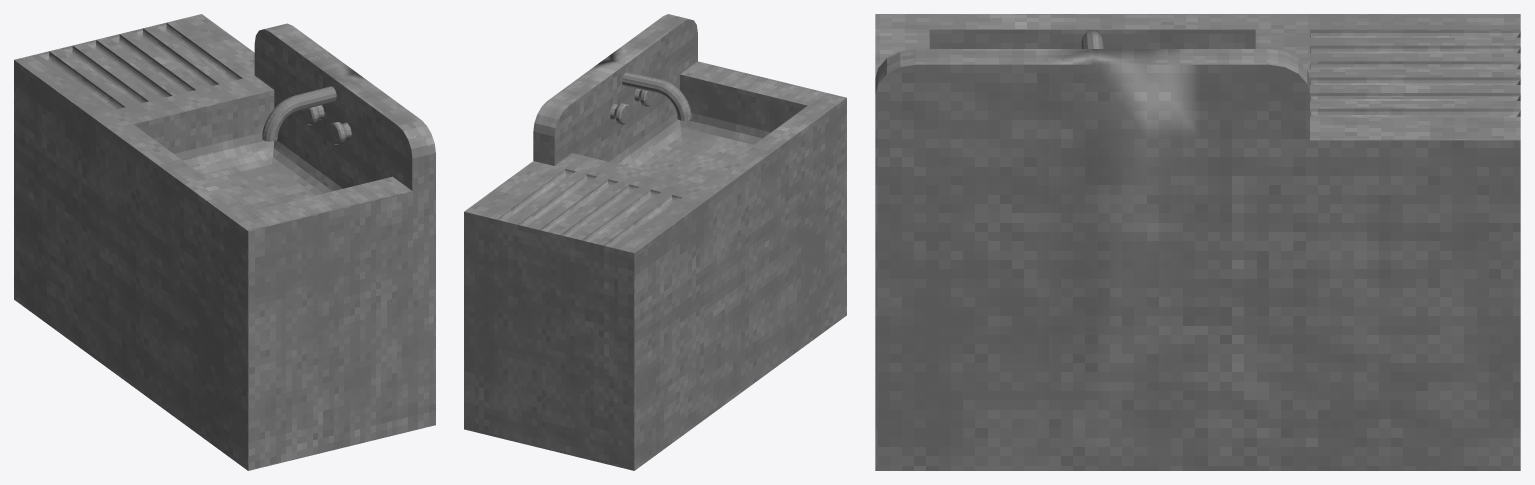
The model's file is zlew.fbx.
3 renders of one model, left to right at view 1: azimuth 30°, elevation 25°; view 2: azimuth 150°, elevation 25°; view 3: azimuth 270°, elevation 25°, orthographic. The views are drawn at different scales.
Parts seen in each view (by area): view 1: Cube.056, Torus.001; view 2: Cube.056, Torus.001; view 3: Cube.056.
Boxes of the visible parts, left/top/right/bottom form: Cube.056: left=14, top=14, right=435, bottom=470; Torus.001: left=262, top=86, right=336, bottom=141; Cube.056: left=464, top=14, right=846, bottom=470; Torus.001: left=622, top=72, right=691, bottom=120; Cube.056: left=875, top=14, right=1520, bottom=470.
Bounding box in the file's own units: 72.53 × 109 × 157.
